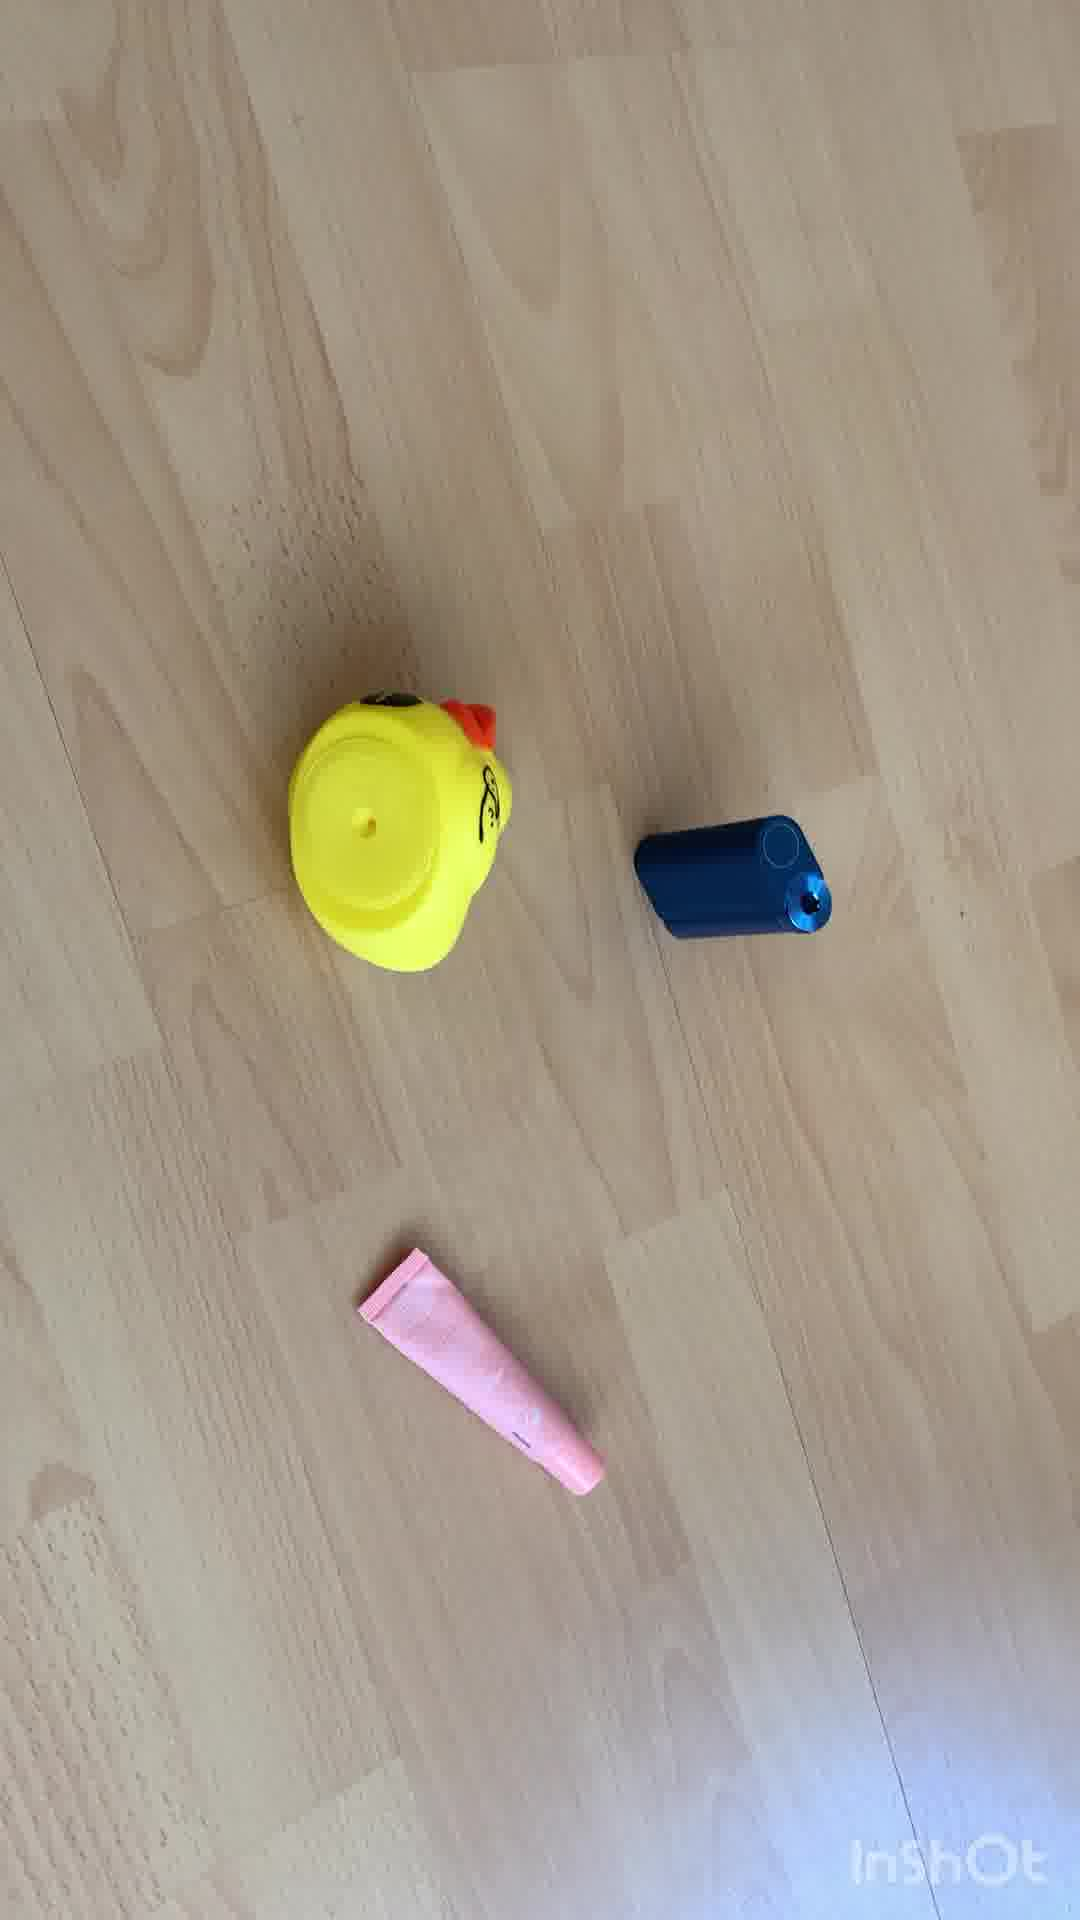duck: (287, 675, 521, 990)
glo: (622, 823, 841, 942)
lip balm: (364, 1246, 613, 1501)
